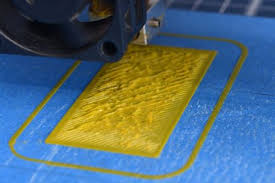fail: (77, 41, 201, 148)
